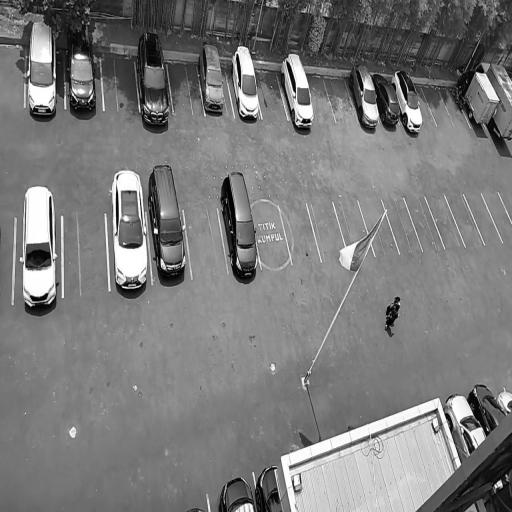Car: (108, 158, 150, 303), (145, 157, 187, 300), (18, 178, 60, 318), (216, 168, 262, 280), (25, 12, 61, 125), (65, 6, 98, 120), (439, 389, 488, 462), (136, 27, 170, 132), (278, 49, 317, 130), (226, 42, 263, 121), (455, 69, 501, 130), (196, 41, 231, 117), (464, 379, 509, 438), (390, 67, 428, 134), (346, 62, 383, 128), (370, 70, 403, 127), (213, 473, 255, 512), (254, 465, 280, 512), (494, 388, 512, 414)
Space Available: (63, 213, 110, 298), (184, 206, 228, 278), (280, 203, 321, 263), (307, 203, 348, 261), (252, 207, 291, 267), (100, 52, 138, 112), (359, 200, 399, 257), (405, 197, 445, 253), (333, 202, 375, 255), (382, 197, 422, 252), (167, 60, 205, 117), (425, 194, 465, 248), (445, 193, 484, 248), (464, 193, 503, 245), (255, 68, 287, 120), (324, 76, 358, 123), (0, 43, 25, 106), (482, 192, 512, 243), (421, 83, 453, 126), (307, 74, 336, 121), (414, 84, 437, 126)
